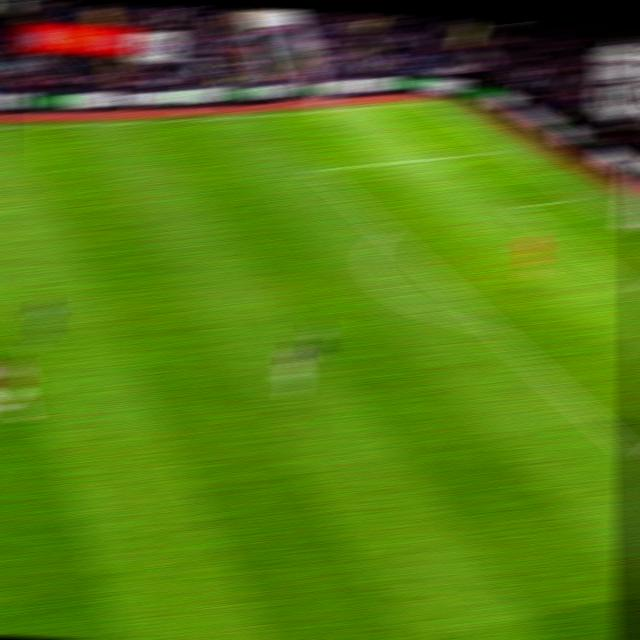bigarea_top_inner: (305, 159, 331, 178)
bigarea_top_outter: (489, 142, 513, 157)
bottom_arc_area_intersection: (482, 319, 508, 338)
corner: (409, 97, 438, 109)
smallarea_top_inner: (501, 199, 527, 213)
smallarea_top_outter: (565, 189, 593, 206)
top_arc_area_intersection: (371, 222, 397, 238)
